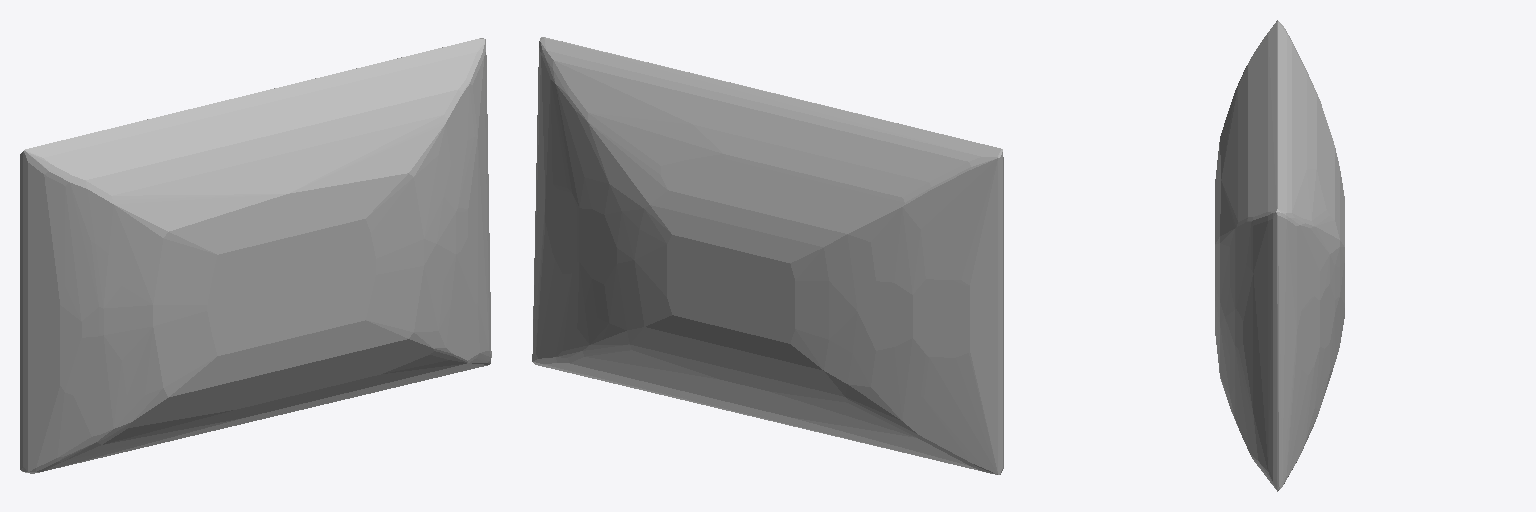
robot.urdf — root:
<robot name="root">
  <link name="link_coacd_convex_piece_0">
    <inertial>
      <origin xyz="0 0 0" rpy="0 0 0"/>
      <inertia ixx="3.49E-02" ixy="2.61E-05" ixz="3.03E-04" iyy="1.00E-01" iyz="1.16E-05" izz="7.49E-02"/>
    </inertial>
    <visual>
      <origin xyz="0 0 0" rpy="0 0 0"/>
      <geometry>
        <mesh filename="coacd_convex_piece_0.obj" scale="1.0000E+00 1.0000E+00 1.0000E+00"/>
      </geometry>
      <material name="">
        <color rgba="7.50E-01 7.50E-01 7.50E-01 1"/>
      </material>
    </visual>
    <collision>
      <origin xyz="0 0 0" rpy="0 0 0"/>
      <geometry>
        <mesh filename="coacd_convex_piece_0.obj" scale="1.0000E+00 1.0000E+00 1.0000E+00"/>
      </geometry>
    </collision>
  </link>
</robot>

--- What the picture shows (computed from the rendered views, not written in the file) ---
3 views of the same robot in one strip: view 1: azimuth 30°, elevation 25°; view 2: azimuth 150°, elevation 25°; view 3: azimuth 270°, elevation 25° (orthographic).
Robot: root — 1 links, 0 joints (none); root link link_coacd_convex_piece_0; default pose: every joint at zero.
Visible links, largest first — view 1: link_coacd_convex_piece_0; view 2: link_coacd_convex_piece_0; view 3: link_coacd_convex_piece_0.
Boxes of the visible links, x1=… form: link_coacd_convex_piece_0: x1=20, y1=38, x2=491, y2=473; link_coacd_convex_piece_0: x1=532, y1=37, x2=1003, y2=474; link_coacd_convex_piece_0: x1=1215, y1=20, x2=1344, y2=491.
Size in the robot's own frame: 1.63 by 0.463 by 1.1 metres.
1 mesh visuals loaded from 1 distinct referenced files (1 OBJ).
